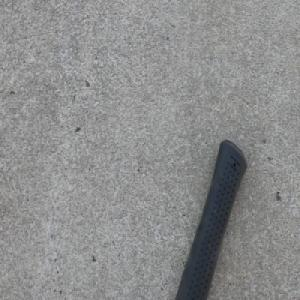Hammer: (170, 136, 248, 300)
